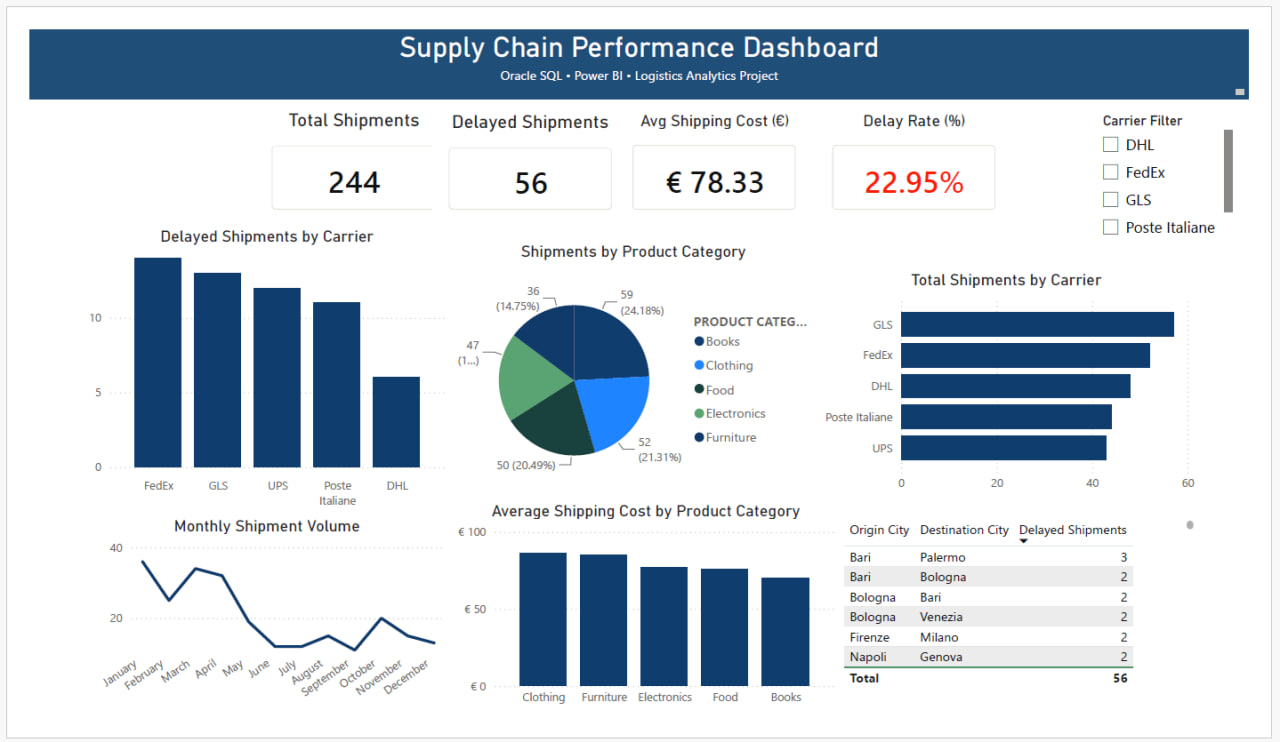

The page's visual inventory and layout, read from the dashboard file:
{"tool":"powerbi","page":{"name":"Page 1","canvas":[1280,720],"ordinal":0},"visuals":[{"type":"cardVisual","title":"Total Shipments","fields":{"Data":["CountNonNull(export (1).SHIPMENT_ID)"]},"box":[236.9,83.1,206.9,122.9],"z":0},{"type":"cardVisual","title":"Delayed Shipments","fields":{"Data":["Sum(export (1).DELAYED)"]},"box":[422.8,84.6,205.4,121.4],"z":1000},{"type":"cardVisual","title":"Avg Shipping Cost (€)","fields":{"Data":["Avg(export (1).SHIPPING_COST)"]},"box":[616.2,84.6,205.4,121.4],"z":2000},{"type":"clusteredColumnChart","title":"Delayed Shipments by Carrier","fields":{"Category":["export (1).CARRIER"],"Y":["Sum(export (1).DELAYED)"]},"box":[57,206.9,383.8,304.3],"z":3000},{"type":"barChart","title":"Total Shipments by Carrier","fields":{"Category":["export (1).CARRIER"],"Y":["CountNonNull(export (1).SHIPMENT_ID)"]},"box":[823.1,251.9,404.8,242.9],"z":4000},{"type":"pieChart","title":"Shipments by Product Category","fields":{"Category":["export (1).PRODUCT_CATEGORY"],"Y":["CountNonNull(export (1).SHIPMENT_ID)"]},"box":[440.6,223.3,386,271.9],"z":5000},{"type":"clusteredColumnChart","title":"Average Shipping Cost by Product Category","fields":{"Category":["export (1).PRODUCT_CATEGORY"],"Y":["Avg(export (1).SHIPPING_COST)"]},"box":[443.8,494.7,406.3,224.9],"z":6000},{"type":"lineChart","title":"Monthly Shipment Volume","fields":{"Category":["export (1).ORDER_DATE.Variation.Date Hierarchy.Month"],"Y":["CountNonNull(export (1).SHIPMENT_ID)"]},"box":[57,511.2,383.8,208.4],"z":7000},{"type":"tableEx","fields":{"Values":["export (1).ORIGIN_CITY","export (1).DESTINATION_CITY","Sum(export (1).DELAYED)"]},"box":[850,509.7,377.8,185.9],"z":8000},{"type":"cardVisual","title":"Delay Rate (%)","fields":{"Data":["export (1).Delay Rate %"]},"box":[826.1,84.6,205.4,121.4],"z":9000},{"type":"slicer","fields":{"Values":["export (1).CARRIER"]},"box":[1113.9,82.5,154.4,140.9],"z":10000},{"type":"textbox","title":"Supply Chain Performance Dashboard","box":[0,0,1280.3,73.5],"z":11000}]}

Visuals, with their boxes in screenshot pixels (x1, y1, x2, y2), scaled from the page's 1280x720 canvas onto the 1280x742 screenshot:
"Total Shipments" cardVisual: 237 86 444 212
"Delayed Shipments" cardVisual: 423 87 628 212
"Avg Shipping Cost (€)" cardVisual: 616 87 822 212
"Delayed Shipments by Carrier" clusteredColumnChart: 57 213 441 527
"Total Shipments by Carrier" barChart: 823 260 1228 510
"Shipments by Product Category" pieChart: 441 230 827 510
"Average Shipping Cost by Product Category" clusteredColumnChart: 444 510 850 741
"Monthly Shipment Volume" lineChart: 57 527 441 741
tableEx - export (1).ORIGIN_CITY x export (1).DESTINATION_CITY: 850 525 1228 717
"Delay Rate (%)" cardVisual: 826 87 1032 212
slicer - export (1).CARRIER: 1114 85 1268 230
"Supply Chain Performance Dashboard" textbox: 0 0 1279 76
